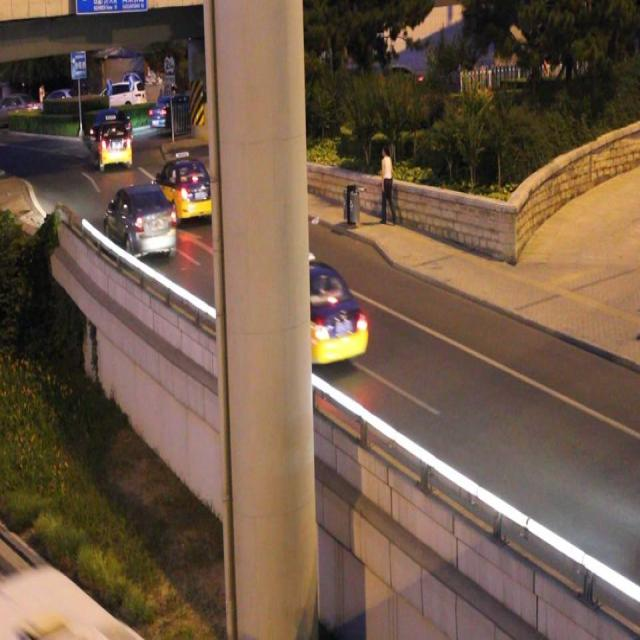car: (269, 262, 366, 364), (105, 187, 174, 257), (155, 161, 216, 215), (94, 122, 132, 166)
